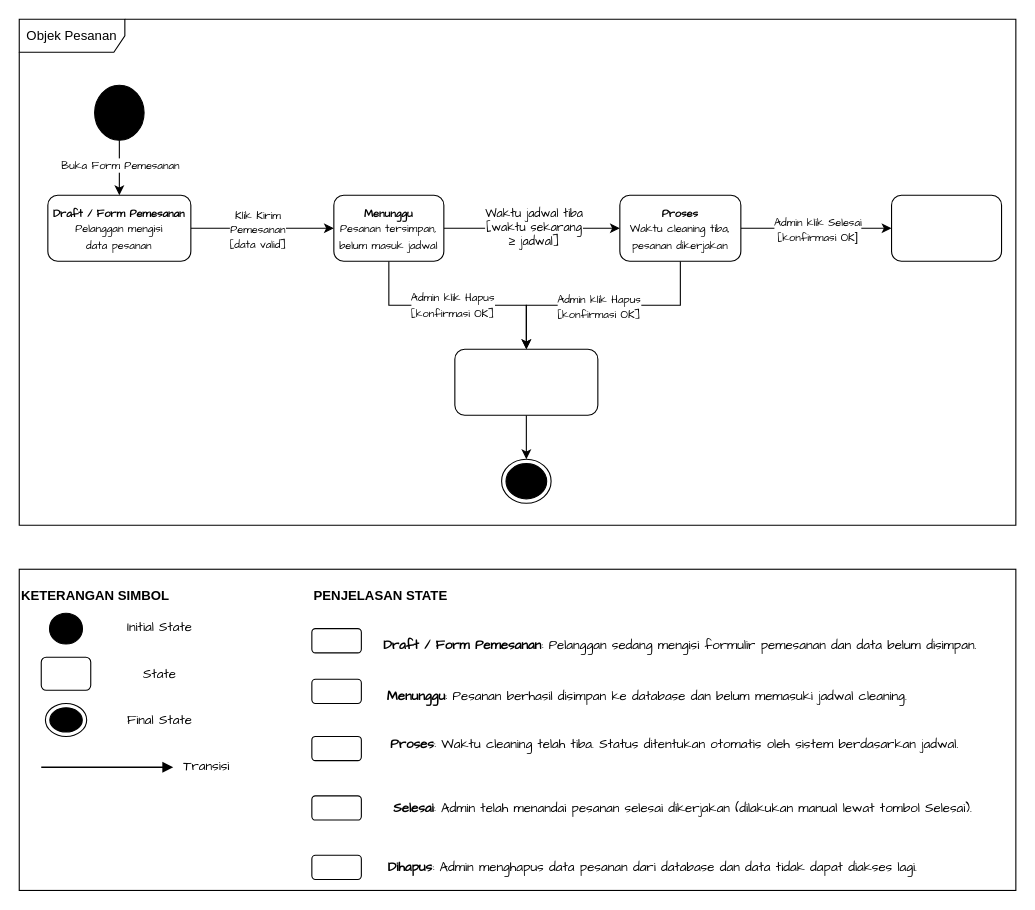
Image size: 1035x910. Some labels were removed from this diagram. Here are the shapes that lost their labels. From the top down, the centre of each, then its label:
(x=946, y=227): Selesai Pesanan telah ditandai selesai
(x=526, y=381): Dihapus Data pesanan dihapus dari database
